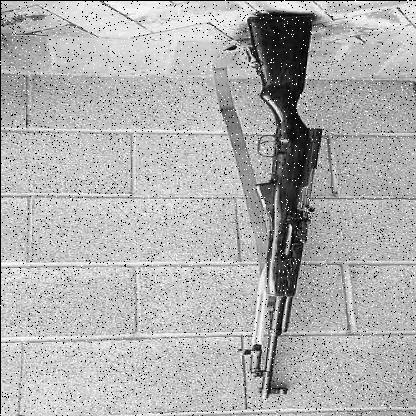rifle: (216, 1, 349, 402)
